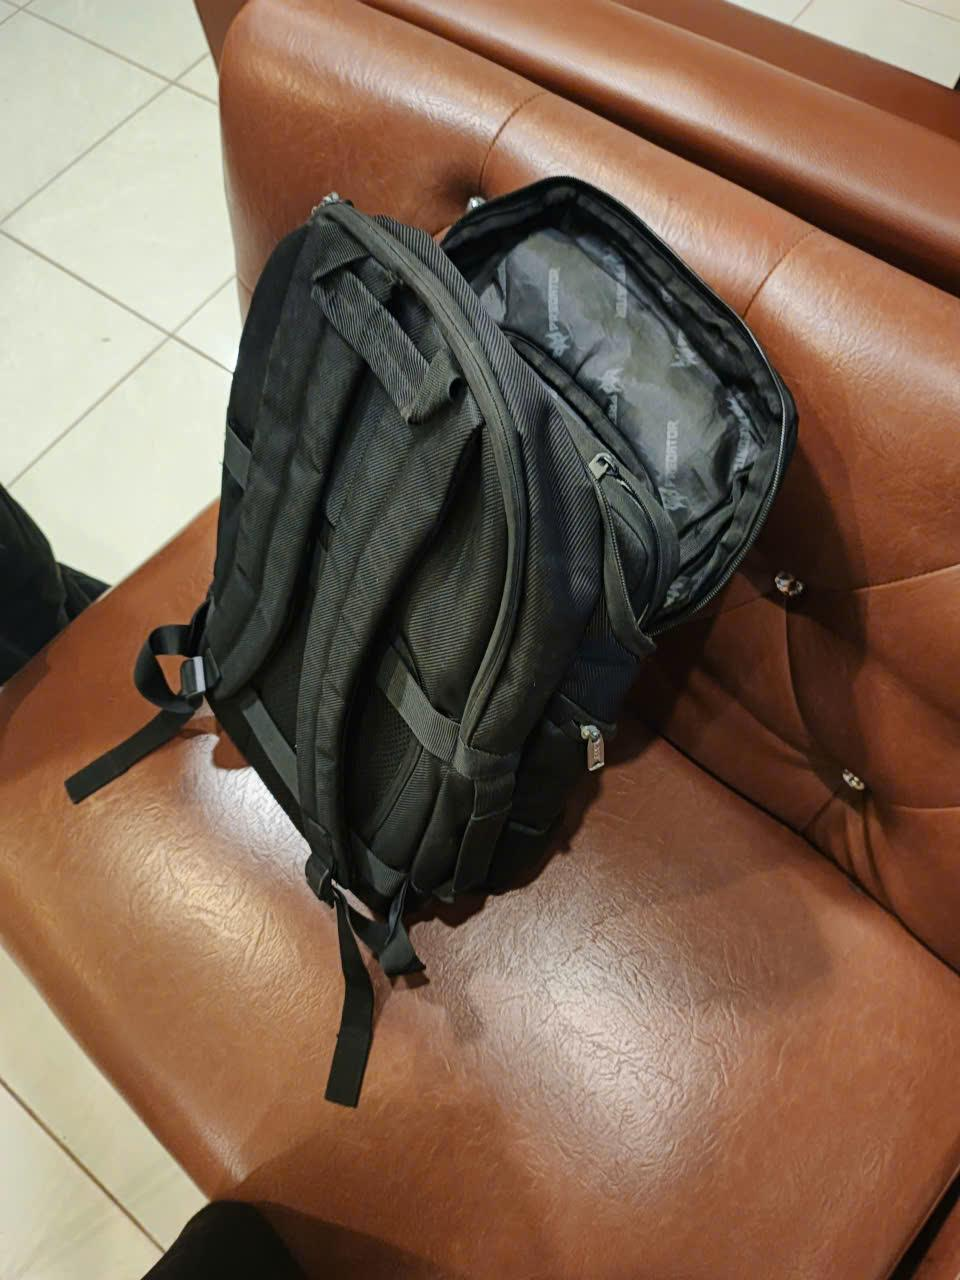Con lai: (181, 175, 790, 940)
